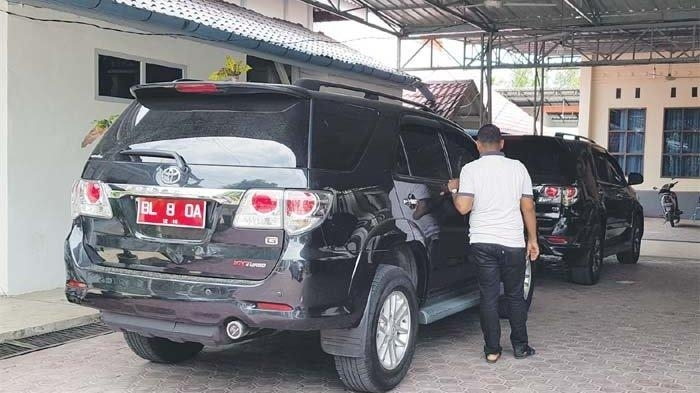plate: (136, 197, 202, 227)
